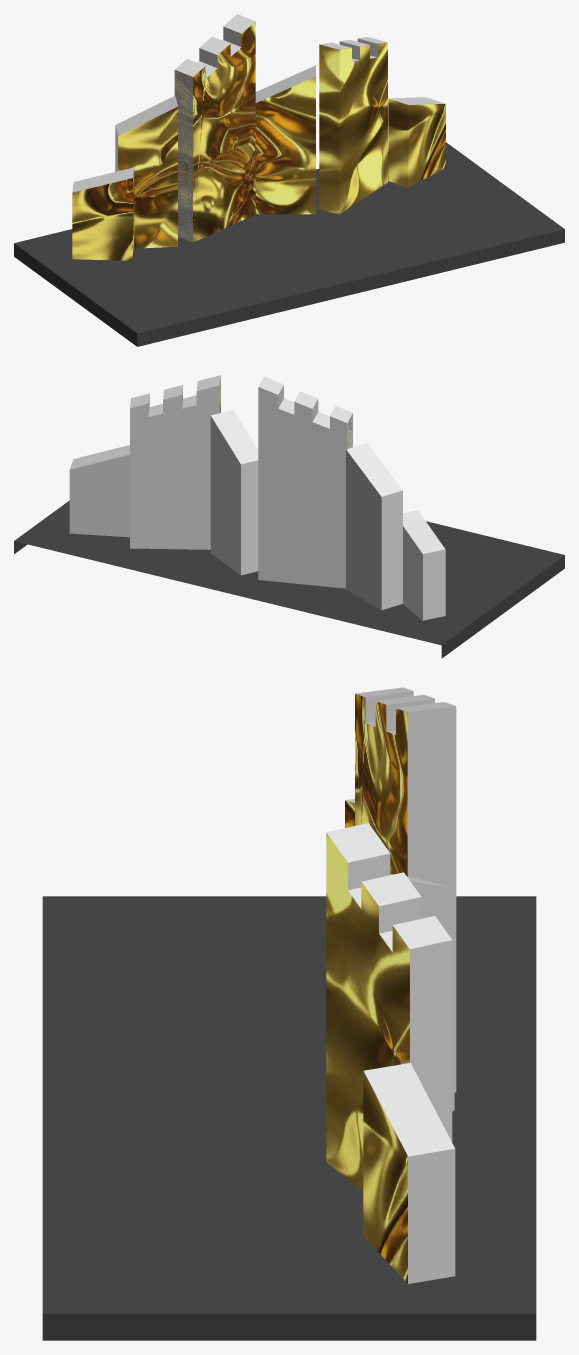
Rendered from stage.glb.
3 views of the same model, one above another, from view 1: azimuth 30°, elevation 25°; view 2: azimuth 150°, elevation 25°; view 3: azimuth 270°, elevation 25° (orthographic). The views are drawn at different scales.
Parts seen in each view (by area): view 1: Plane_7, SketchUp.004_4, SketchUp.002_1, SketchUp.003_2, SketchUp.007_5, SketchUp.008_6, SketchUp.001_0, SketchUp.005_3; view 2: Plane_7, SketchUp.004_4, SketchUp.002_1, SketchUp.007_5, SketchUp.003_2, SketchUp.001_0, SketchUp.008_6; view 3: Plane_7, SketchUp.002_1, SketchUp.004_4, SketchUp.001_0, SketchUp.003_2.
Boxes of the visible parts, x1,y1,x2,y2 form: Plane_7: [14, 142, 564, 346]; SketchUp.004_4: [175, 14, 255, 242]; SketchUp.002_1: [319, 37, 387, 214]; SketchUp.003_2: [255, 65, 315, 214]; SketchUp.007_5: [115, 96, 177, 248]; SketchUp.008_6: [72, 167, 134, 260]; SketchUp.001_0: [388, 97, 445, 187]; SketchUp.005_3: [174, 70, 193, 242]; Plane_7: [14, 500, 564, 658]; SketchUp.004_4: [258, 376, 352, 588]; SketchUp.002_1: [130, 375, 220, 549]; SketchUp.007_5: [346, 443, 402, 610]; SketchUp.003_2: [210, 410, 258, 575]; SketchUp.001_0: [69, 445, 129, 537]; SketchUp.008_6: [403, 510, 445, 620]; Plane_7: [42, 896, 536, 1340]; SketchUp.002_1: [326, 823, 452, 1191]; SketchUp.004_4: [355, 687, 456, 1092]; SketchUp.001_0: [363, 1063, 455, 1283]; SketchUp.003_2: [390, 874, 454, 1111].
Bounding box in the file's own units: 8.01 × 3.72 × 4.
3 materials, 1 textured.
